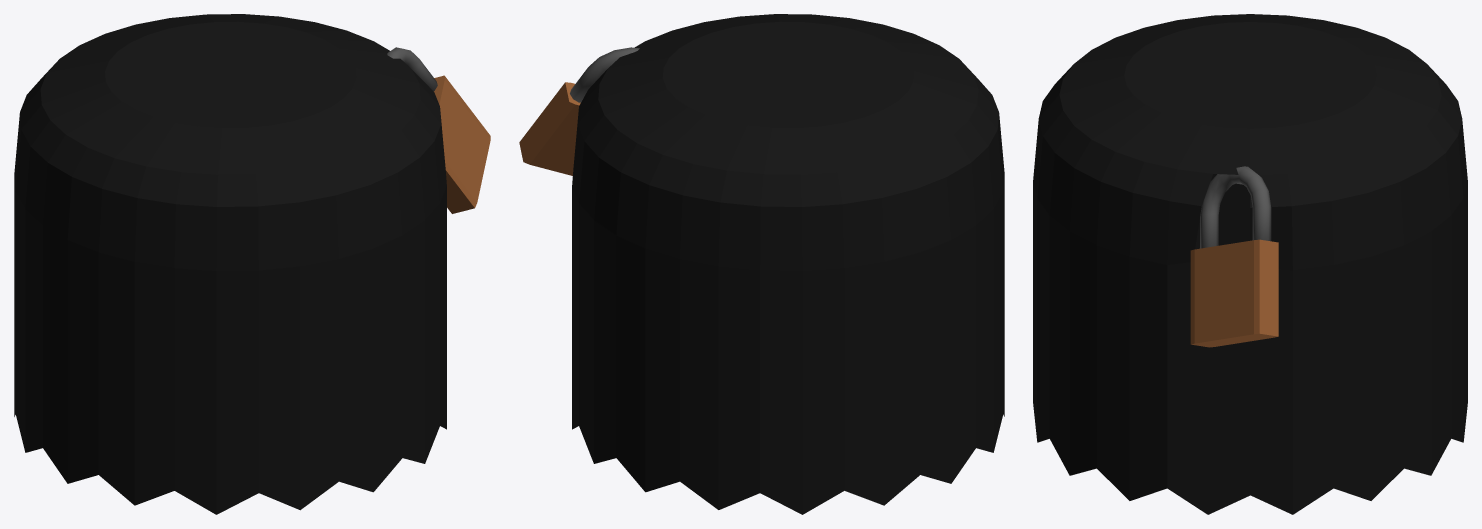
Rendered from kos_1_pokrivac.obj.
3 views of the same model, side by side, from view 1: azimuth 30°, elevation 25°; view 2: azimuth 150°, elevation 25°; view 3: azimuth 270°, elevation 25° (orthographic).
Visible parts, largest first — view 1: Cylinder.002, Cube.003, Torus.002; view 2: Cylinder.002, Cube.003, Torus.002; view 3: Cylinder.002, Cube.003, Torus.002.
Boxes of the visible parts, <box> form: Cylinder.002: <box>14,14,446,514</box>; Cube.003: <box>434,75,490,213</box>; Torus.002: <box>387,47,437,91</box>; Cylinder.002: <box>572,14,1004,514</box>; Cube.003: <box>519,82,580,175</box>; Torus.002: <box>570,47,639,102</box>; Cylinder.002: <box>1033,14,1467,514</box>; Cube.003: <box>1190,239,1278,347</box>; Torus.002: <box>1200,166,1271,248</box>.
Size of the model in its own units: 0.8043 by 0.5926 by 0.6678.
